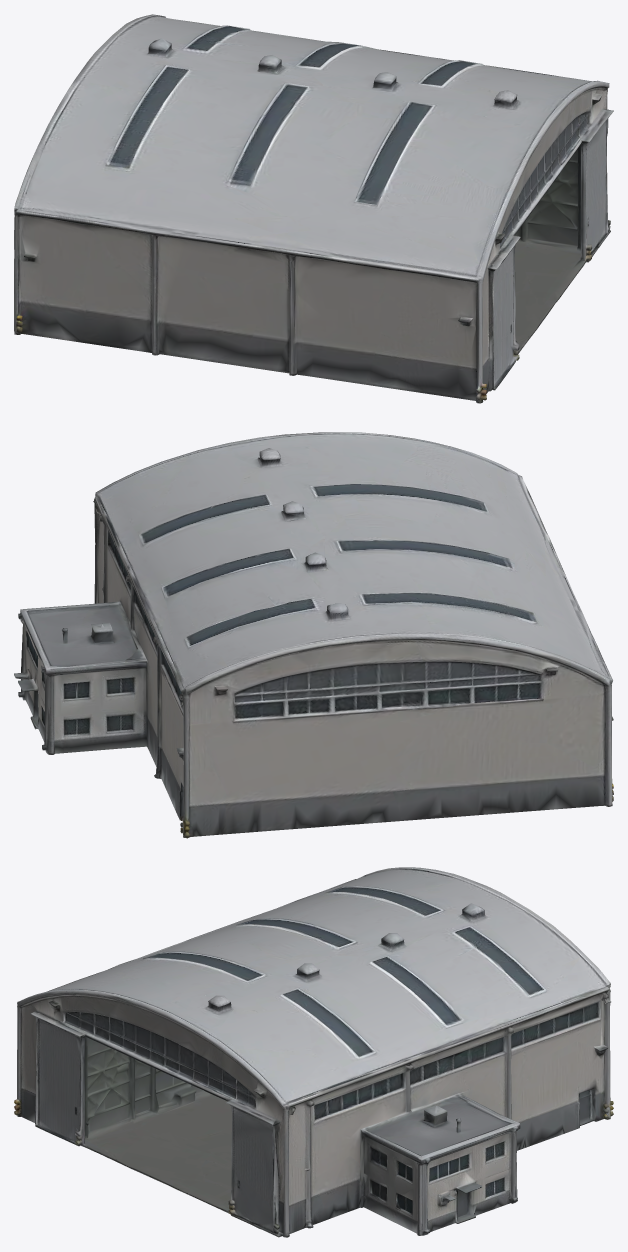
File: hangar.glb
3 views of the same model, one above another, from view 1: azimuth 30°, elevation 25°; view 2: azimuth 150°, elevation 25°; view 3: azimuth 270°, elevation 25° (orthographic). The views are drawn at different scales.
Parts seen in each view (by area): view 1: tripo_node_f48dad46-9d92-4f7d-9966-420b0d143635; view 2: tripo_node_f48dad46-9d92-4f7d-9966-420b0d143635; view 3: tripo_node_f48dad46-9d92-4f7d-9966-420b0d143635.
Boxes of the visible parts, box(x1,y1,x2,y2) form: tripo_node_f48dad46-9d92-4f7d-9966-420b0d143635: box(14, 14, 613, 403); tripo_node_f48dad46-9d92-4f7d-9966-420b0d143635: box(14, 432, 613, 838); tripo_node_f48dad46-9d92-4f7d-9966-420b0d143635: box(14, 867, 613, 1237).
Bounding box in the file's own units: 1.15 × 0.3911 × 1.18.
1 material, 1 textured.
